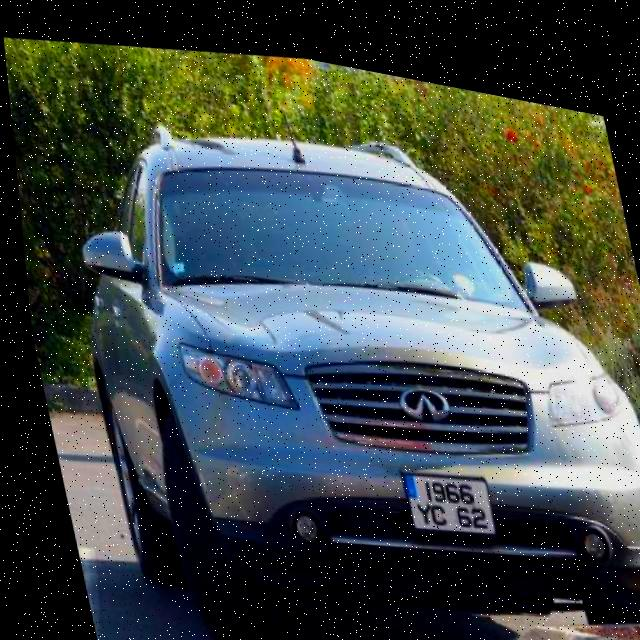license_plate: (394, 447, 488, 526)
